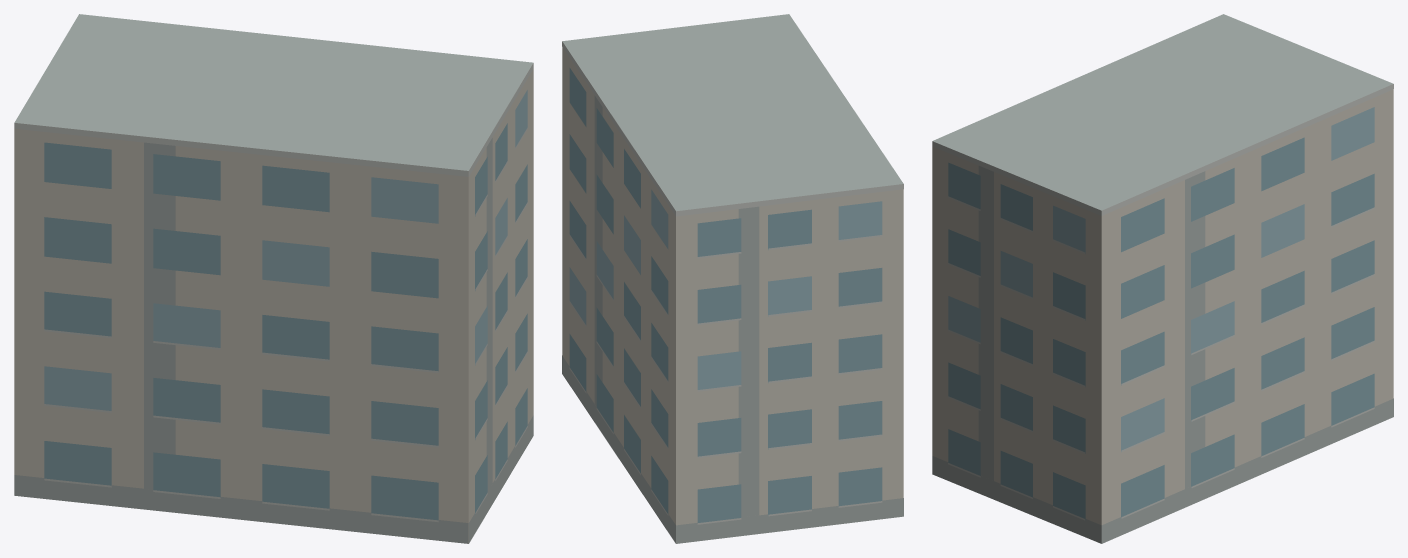
Rendered from survey-upis-32888369.glb.
The picture shows the model from 3 angles, left to right: view 1: azimuth 30°, elevation 25°; view 2: azimuth 150°, elevation 25°; view 3: azimuth 270°, elevation 25°; orthographic projection. The views are drawn at different scales.
Parts seen in each view (by area): view 1: survey-upis-32888369.tmp; view 2: survey-upis-32888369.tmp; view 3: survey-upis-32888369.tmp.
Part boxes in pixels (bbox=[...]): survey-upis-32888369.tmp: bbox=[14, 14, 533, 543]; survey-upis-32888369.tmp: bbox=[562, 14, 903, 543]; survey-upis-32888369.tmp: bbox=[932, 14, 1393, 543].
Size of the model in its own units: 19.25 by 15.2 by 19.09.
